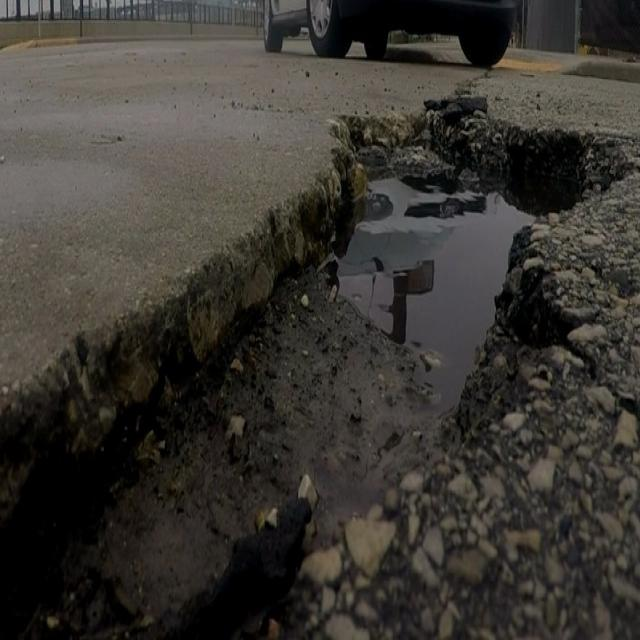road-pothole: (0, 108, 597, 639)
